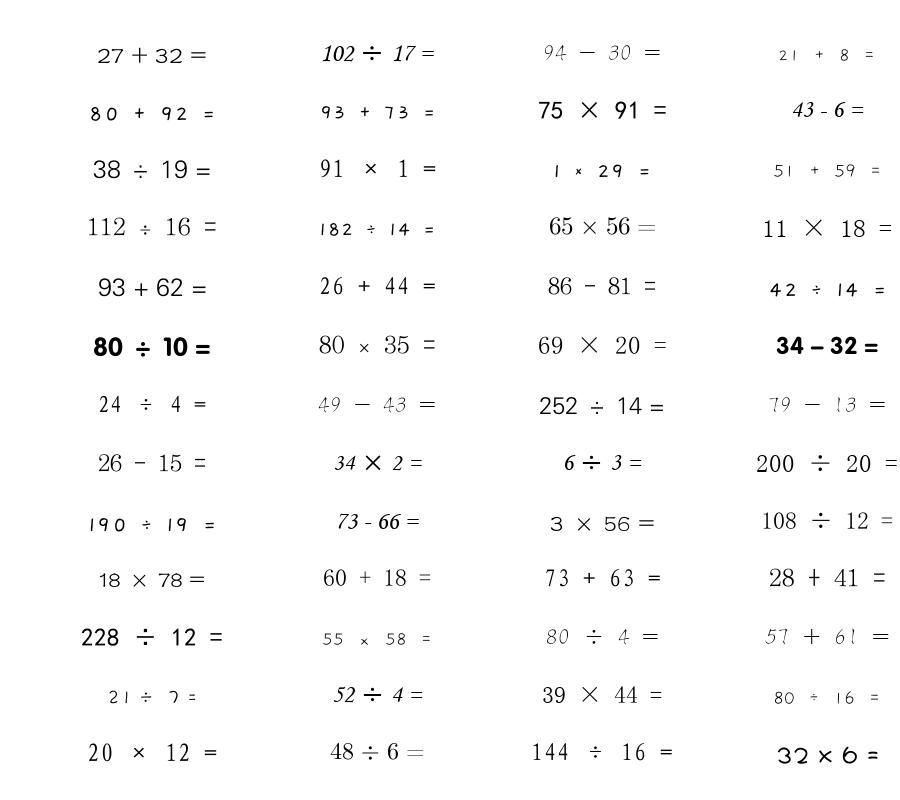MQ: (756, 454, 898, 472), (81, 628, 223, 646), (531, 743, 673, 761), (87, 217, 217, 236), (87, 743, 217, 762), (93, 337, 211, 357), (762, 219, 892, 237), (538, 101, 667, 119), (538, 336, 667, 354), (539, 397, 665, 415), (761, 512, 893, 529), (93, 160, 211, 179), (319, 159, 436, 178), (319, 335, 436, 354), (769, 568, 886, 587), (765, 628, 890, 645), (319, 277, 436, 295), (544, 569, 661, 587), (98, 278, 207, 297), (542, 686, 662, 703), (548, 277, 656, 295), (98, 395, 206, 413), (98, 454, 206, 472), (320, 45, 434, 62), (776, 336, 878, 355), (549, 217, 656, 235), (88, 106, 216, 121), (543, 45, 661, 61), (318, 397, 436, 413), (768, 397, 886, 413), (97, 47, 207, 64), (776, 746, 879, 764), (323, 569, 431, 586), (546, 629, 659, 645), (88, 518, 217, 532), (330, 742, 425, 760), (768, 283, 887, 297), (550, 516, 655, 531), (332, 686, 423, 703), (773, 164, 882, 178), (319, 106, 436, 119), (319, 223, 436, 236), (773, 691, 881, 705), (99, 573, 205, 587), (322, 633, 433, 646), (333, 455, 422, 471), (553, 164, 651, 178), (107, 690, 197, 705), (335, 513, 419, 529), (778, 49, 876, 62), (562, 455, 642, 470), (791, 102, 864, 117)
